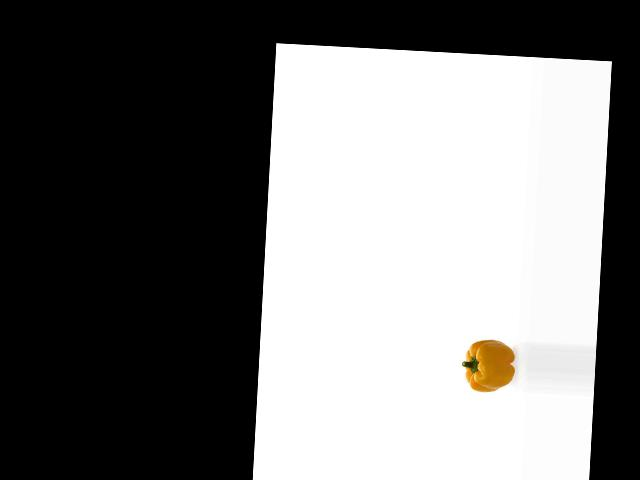bell_pepper: (458, 338, 517, 397)
